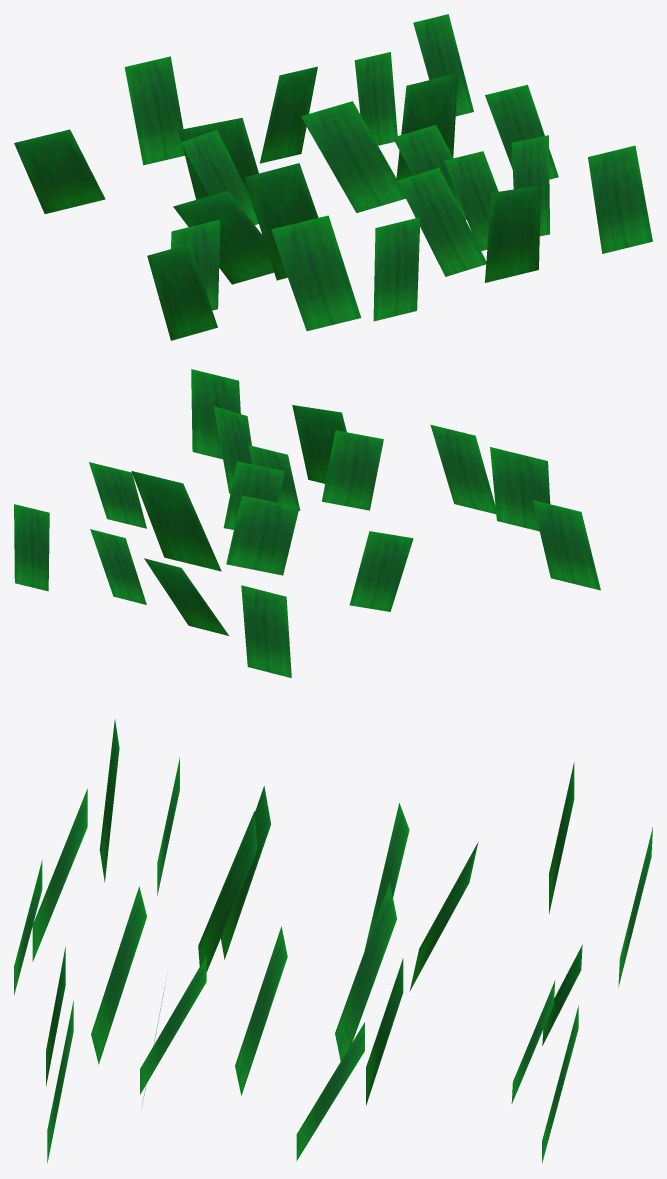
File: Lawn2.fbx
The picture shows the model from 3 angles, top to bottom: view 1: azimuth 30°, elevation 25°; view 2: azimuth 150°, elevation 25°; view 3: azimuth 270°, elevation 25°; orthographic projection. The views are drawn at different scales.
Visible parts, largest first — view 1: cut__MI_Lawn_01; view 2: cut__MI_Lawn_01; view 3: cut__MI_Lawn_01.
Boxes of the visible parts, <box> form: cut__MI_Lawn_01: <box>14,14,652,340</box>; cut__MI_Lawn_01: <box>14,369,600,677</box>; cut__MI_Lawn_01: <box>14,719,652,1163</box>.
Bounding box in the file's own units: 0.6426 × 0.1164 × 0.5303.
Materials: 1 (1 with a texture image).
